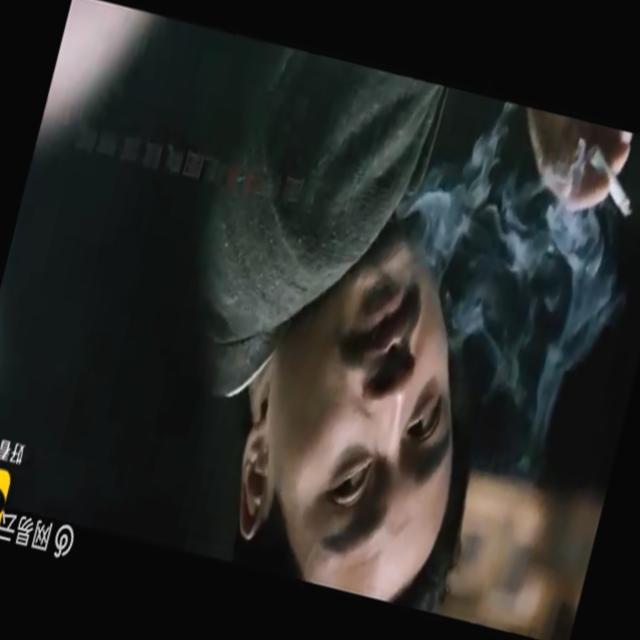smoke: (577, 146, 640, 221)
